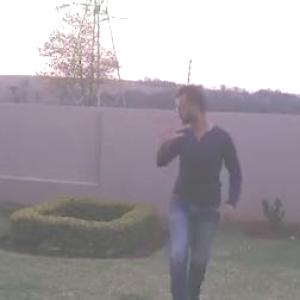follow_hand: (150, 106, 181, 145)
